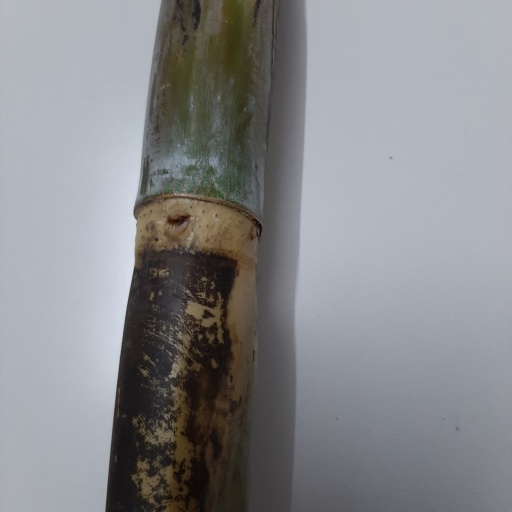Damage_Bud: (163, 208, 192, 244)
